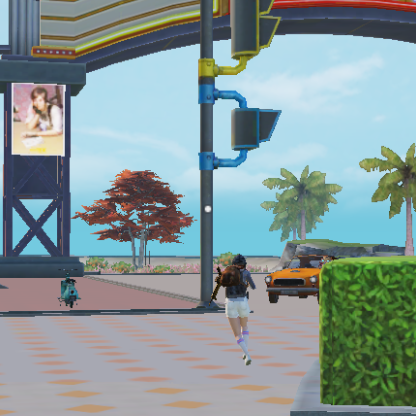ren: (219, 251, 257, 365), (24, 81, 62, 144)
tou: (31, 86, 49, 116), (230, 253, 250, 271)
